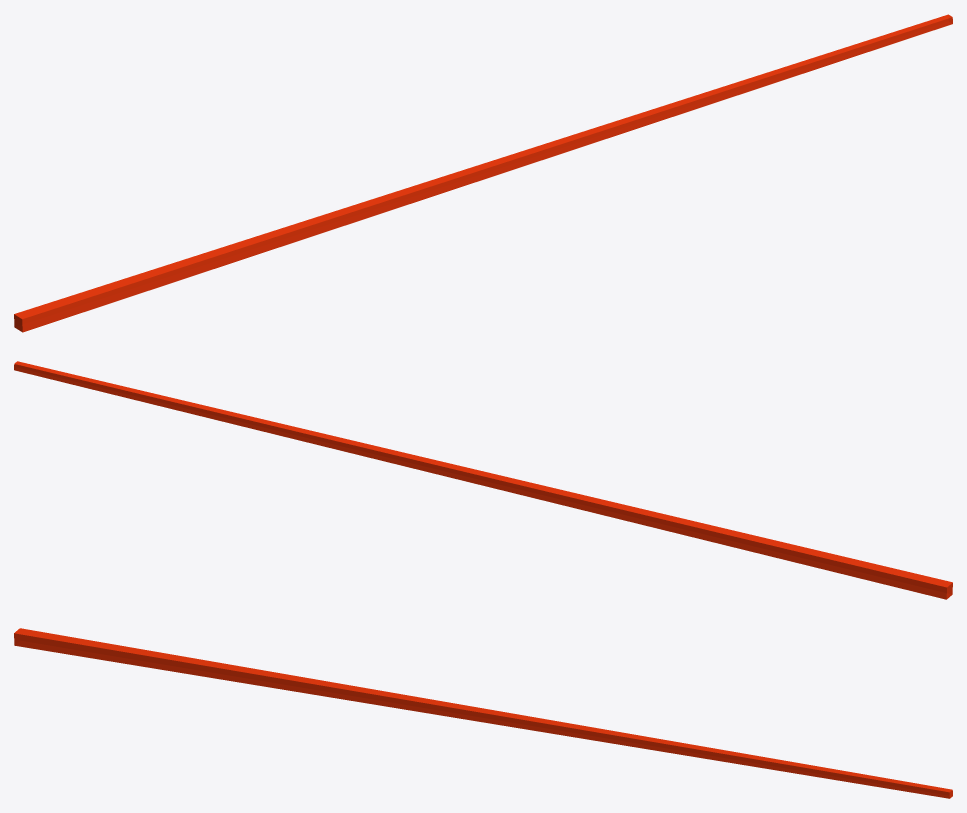
File: Event_421127236_EErechit_20.fbx
3 views of the same model, one above another, from view 1: azimuth 30°, elevation 25°; view 2: azimuth 150°, elevation 25°; view 3: azimuth 330°, elevation 25° (orthographic). The views are drawn at different scales.
Parts seen in each view (by area): view 1: Model; view 2: Model; view 3: Model.
Part boxes in pixels (bbox=[...]): Model: bbox=[14, 14, 952, 332]; Model: bbox=[14, 361, 952, 599]; Model: bbox=[14, 628, 952, 798].
Bounding box in the file's own units: 10.62 × 0.4907 × 0.8743.
